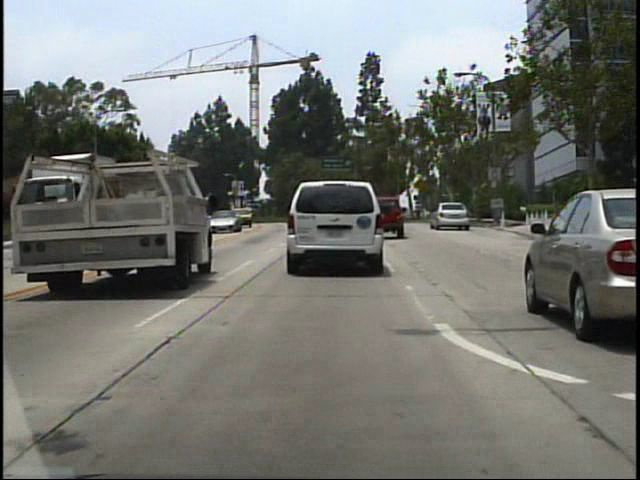person: (413, 196, 427, 223)
